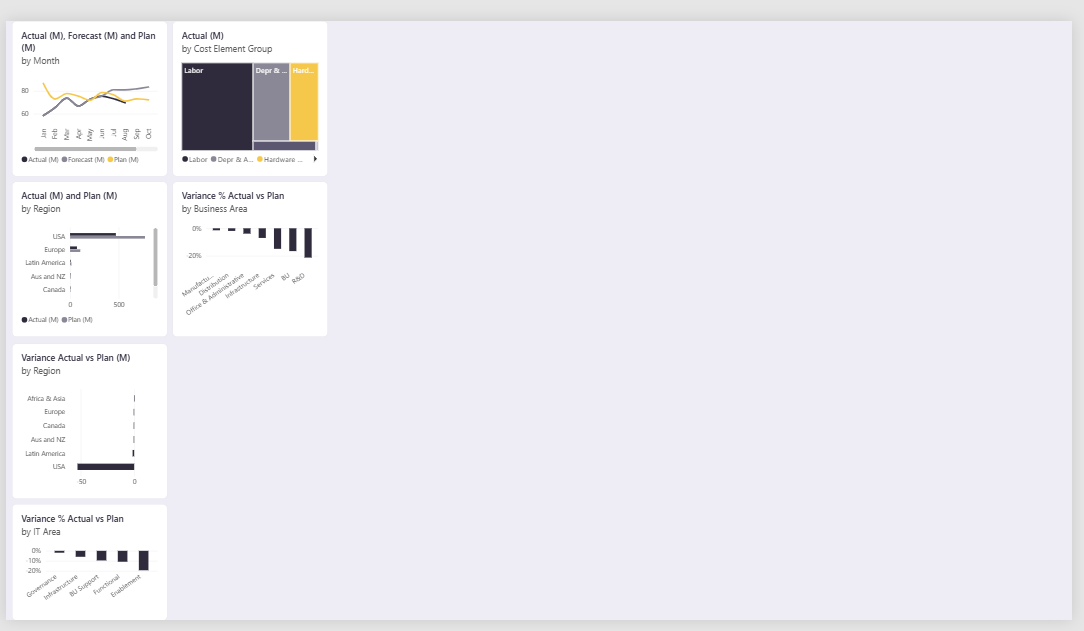

What the dashboard file says about the page in this screenshot:
{"tool":"powerbi","page":{"name":"EDA","canvas":[1920,1080],"ordinal":1},"visuals":[{"type":"lineChart","fields":{"Category":["IT_Spend.Month"],"Y":["IT_Spend.Actual (M)","IT_Spend.Forecast (M)","IT_Spend.Plan (M)"]},"box":[10,0,280,280],"z":0},{"type":"clusteredBarChart","fields":{"Category":["IT_Spend.Region"],"Y":["IT_Spend.Actual (M)","IT_Spend.Plan (M)"]},"box":[10,290,280,280],"z":1000},{"type":"clusteredBarChart","fields":{"Category":["IT_Spend.Region"],"Y":["IT_Spend.Variance Actual vs Plan (M)"]},"box":[10,580,280,280],"z":2000},{"type":"clusteredColumnChart","fields":{"Category":["IT_Spend.IT Area"],"Y":["IT_Spend.Variance % Actual vs Plan"]},"box":[10,870,280,210],"z":3000},{"type":"treemap","fields":{"Group":["IT_Spend.Cost Element Group"],"Values":["IT_Spend.Actual (M)"]},"box":[300,0,280,280],"z":4000},{"type":"clusteredColumnChart","fields":{"Category":["IT_Spend.Business Area"],"Y":["IT_Spend.Variance % Actual vs Plan"]},"box":[300,290,280,280],"z":5000}]}

Visuals, with their boxes on the page's 1920x1080 design canvas (x1, y1, x2, y2). These are canvas units, not pixel positions in the 1084x631 screenshot, which may show the page scaled, cropped or inside an application window:
lineChart - IT_Spend.Month x IT_Spend.Actual (M): (x1=10, y1=0, x2=290, y2=280)
clusteredBarChart - IT_Spend.Region x IT_Spend.Actual (M): (x1=10, y1=290, x2=290, y2=570)
clusteredBarChart - IT_Spend.Region x IT_Spend.Variance Actual vs Plan (M): (x1=10, y1=580, x2=290, y2=860)
clusteredColumnChart - IT_Spend.IT Area x IT_Spend.Variance % Actual vs Plan: (x1=10, y1=870, x2=290, y2=1080)
treemap - IT_Spend.Cost Element Group x IT_Spend.Actual (M): (x1=300, y1=0, x2=580, y2=280)
clusteredColumnChart - IT_Spend.Business Area x IT_Spend.Variance % Actual vs Plan: (x1=300, y1=290, x2=580, y2=570)
